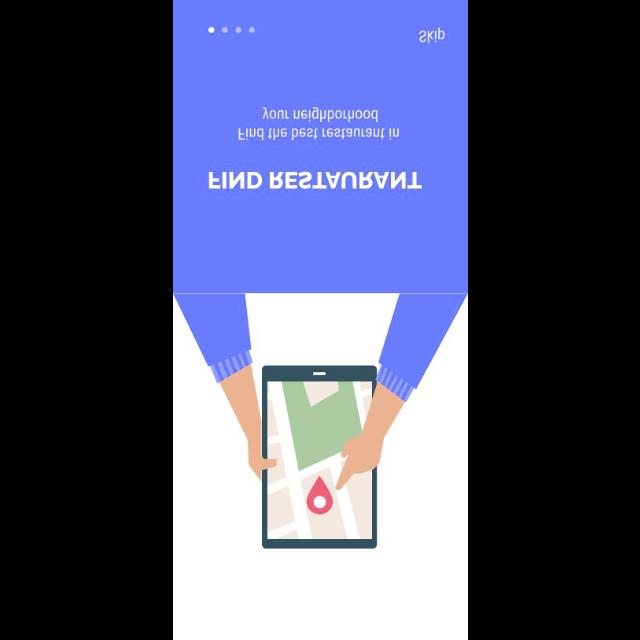image: (173, 292, 467, 548)
pageindicator: (208, 26, 256, 34)
text: (238, 107, 398, 141), (208, 171, 422, 189), (418, 27, 444, 43)
